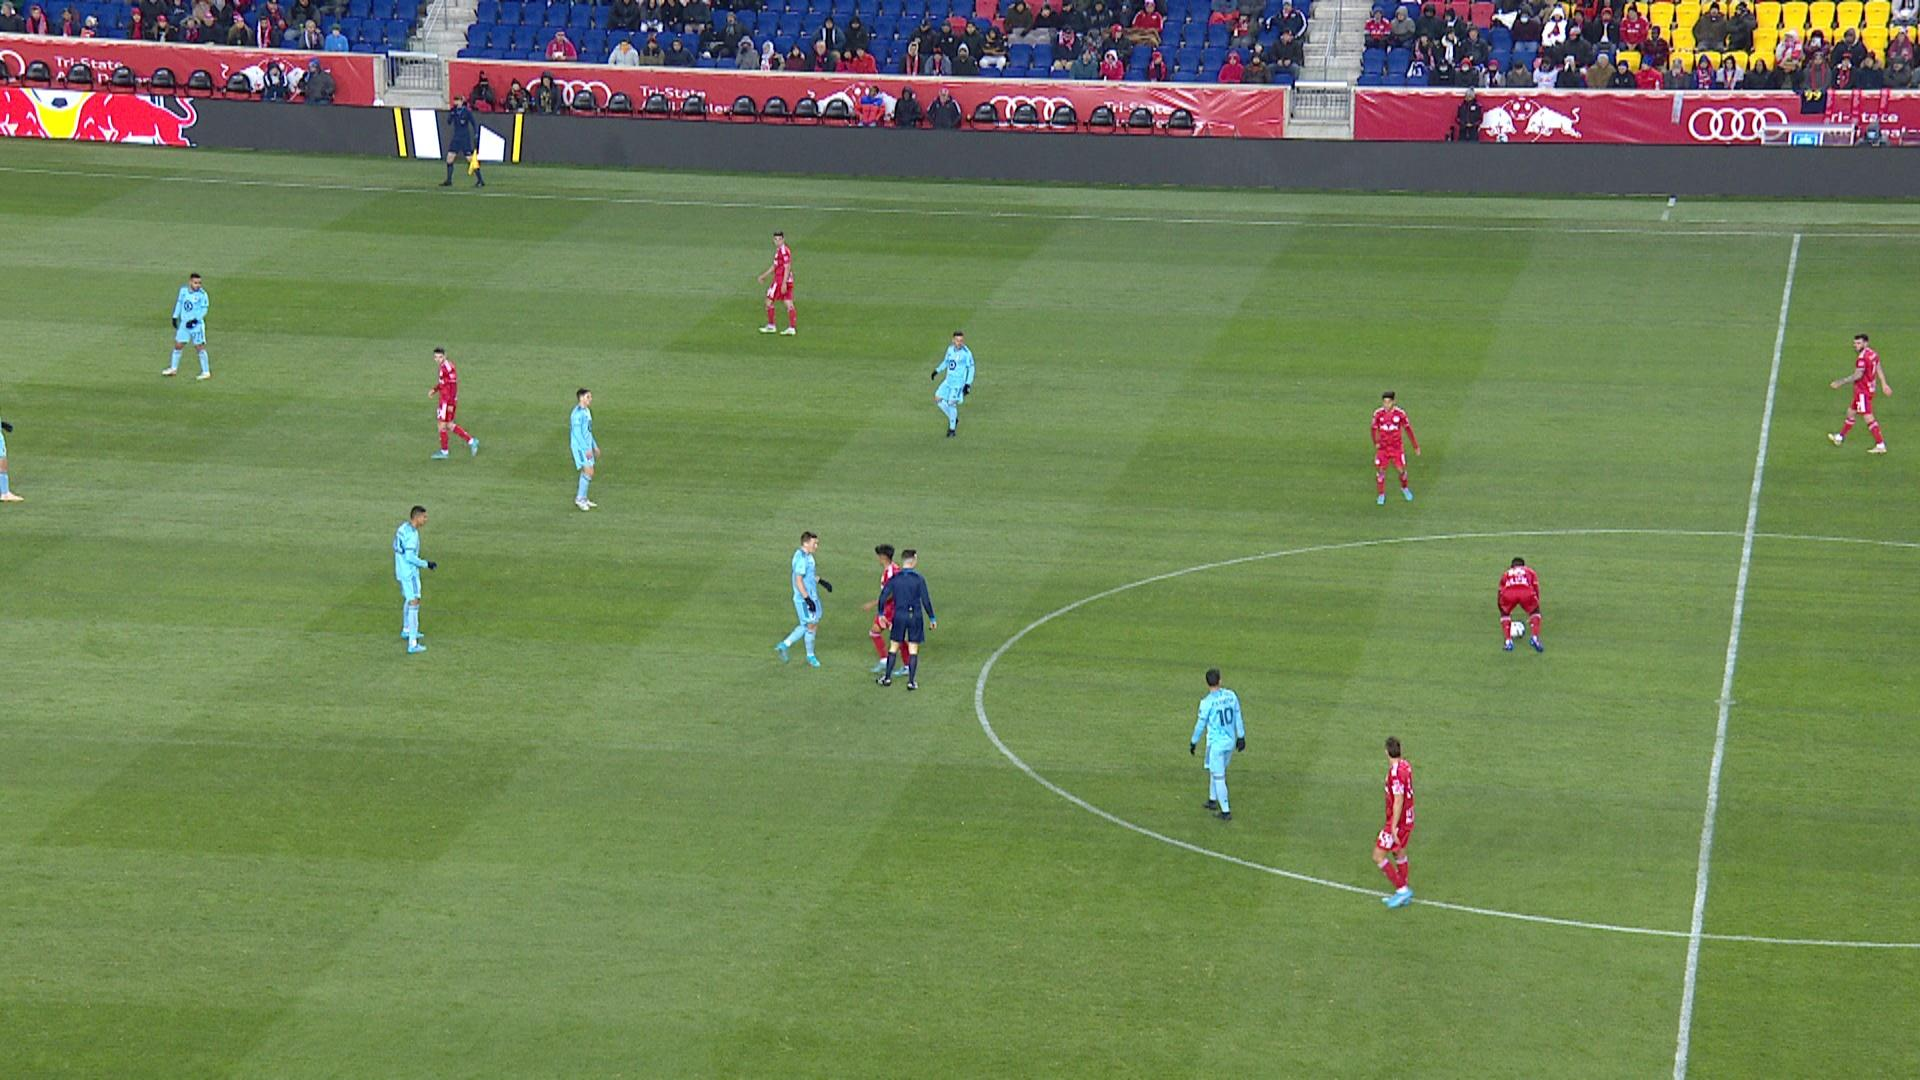football: (1511, 620, 1526, 638)
